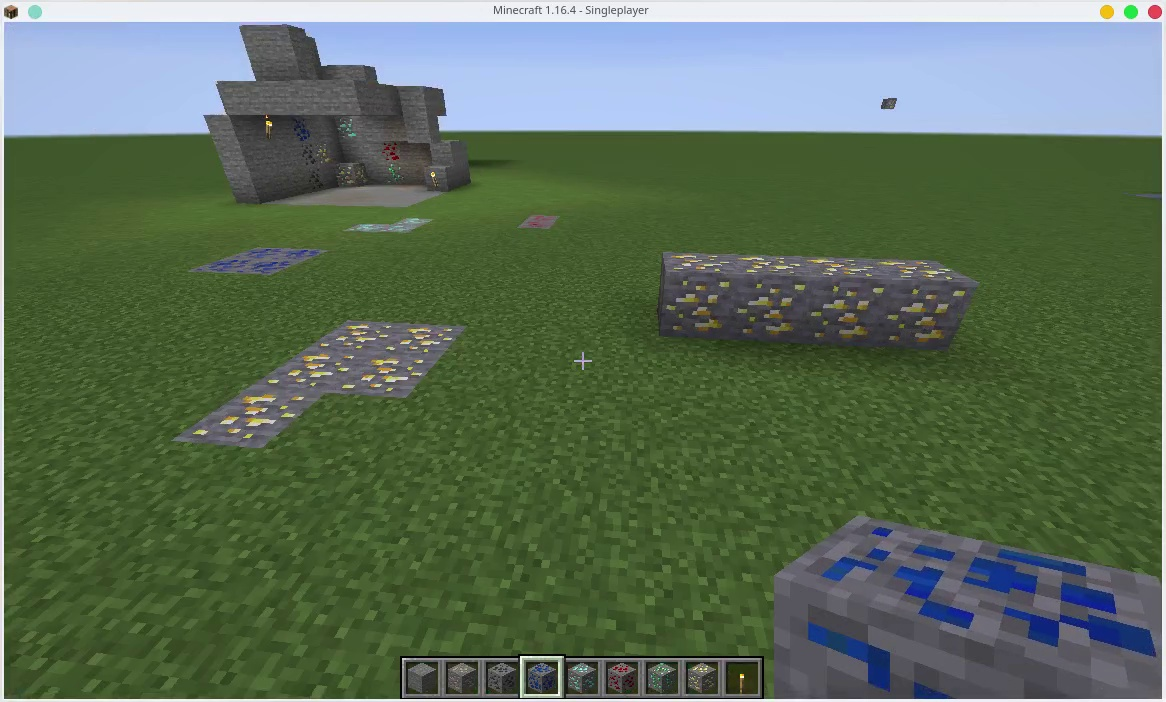gold: (884, 255, 975, 361), (793, 246, 884, 340), (643, 253, 739, 341), (187, 384, 289, 446), (736, 250, 802, 343), (286, 348, 349, 404), (363, 358, 421, 402), (335, 318, 392, 352), (403, 319, 446, 355), (683, 664, 712, 695), (339, 164, 372, 186), (314, 141, 336, 168)
